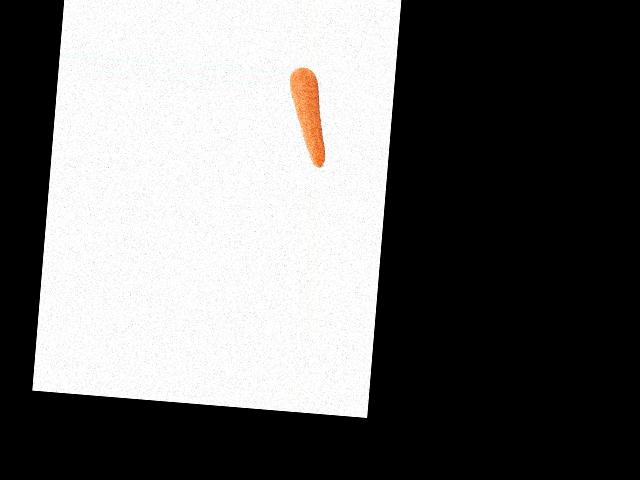carrot: (283, 67, 332, 168)
